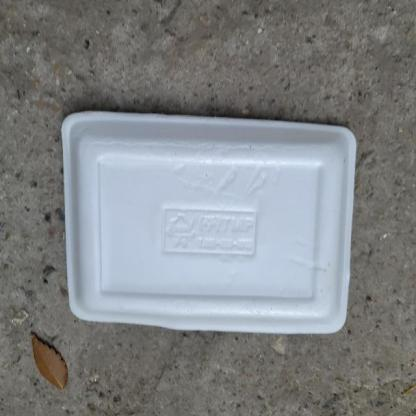Glass Cup: (61, 110, 357, 333), (62, 112, 357, 334)
